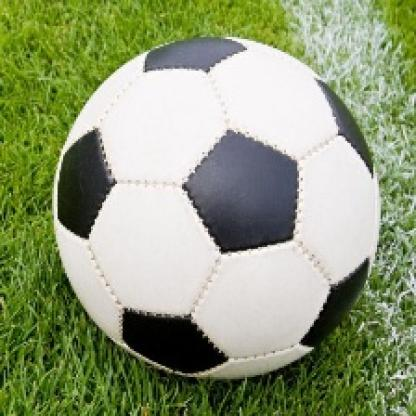ball: (51, 38, 381, 382)
